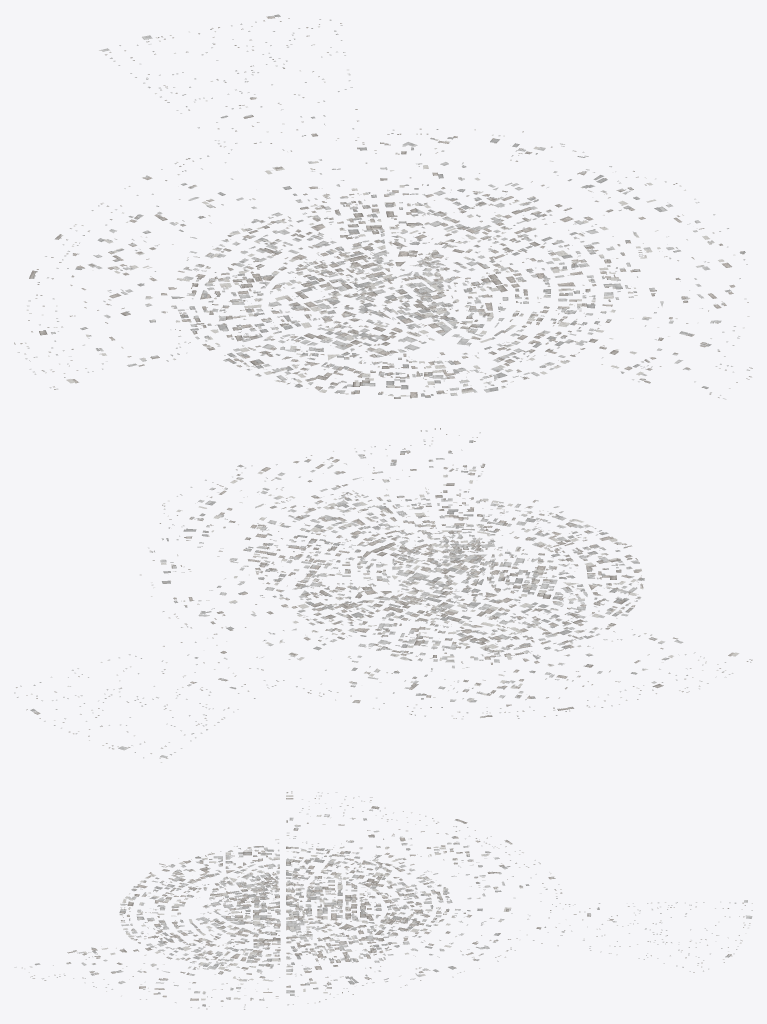
Rendered from city_3d_model_14.glb.
The picture shows the model from 3 angles, top to bottom: view 1: azimuth 30°, elevation 25°; view 2: azimuth 150°, elevation 25°; view 3: azimuth 270°, elevation 25°; orthographic projection. The views are drawn at different scales.
Parts seen in each view (by area): view 1: Object_8, Object_40, Object_12, Object_36, Object_18, Object_60; view 2: Object_8, Object_12, Object_40, Object_36, Object_18, Object_60; view 3: Object_8, Object_12, Object_40, Object_36, Object_60, Object_18.
Part boxes in pixels (x1,y1,x2,y2): Object_8: (20,16,748,397); Object_40: (14,18,752,398); Object_12: (25,26,749,396); Object_36: (25,14,749,399); Object_18: (28,14,745,397); Object_60: (17,15,747,395); Object_8: (16,434,748,758); Object_12: (31,435,739,762); Object_40: (26,428,752,758); Object_36: (20,430,730,758); Object_18: (14,440,725,755); Object_60: (34,437,751,758); Object_8: (34,792,743,1004); Object_12: (28,795,752,1006); Object_40: (22,792,750,1009); Object_36: (14,792,752,1007); Object_60: (24,791,752,1007); Object_18: (35,792,746,1009).
Bounding box in the file's own units: 752 × 68.5 × 990.
6 materials, 6 textured.
